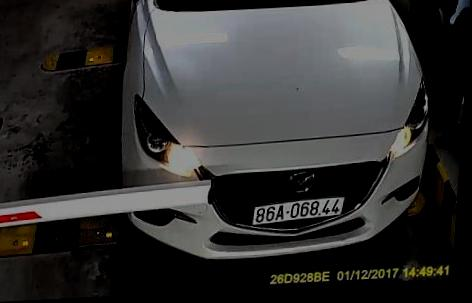License_Plate: (252, 195, 345, 228)
